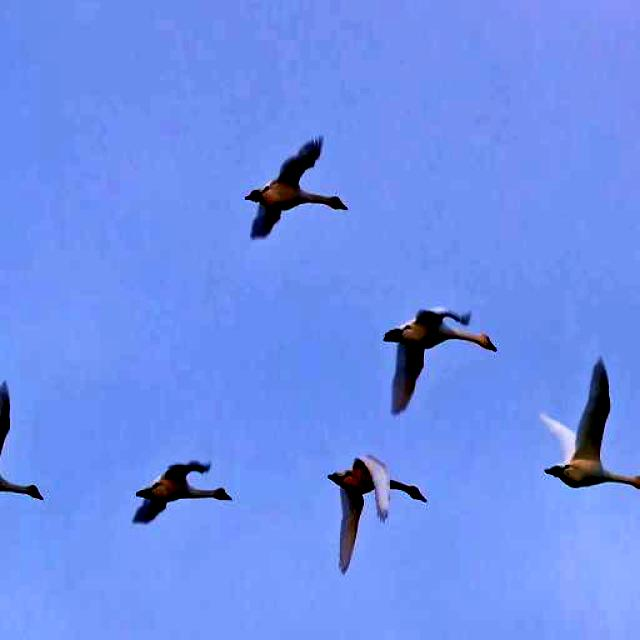airplane: (380, 282, 506, 414), (529, 356, 640, 504), (234, 128, 354, 246), (324, 449, 429, 574), (124, 451, 238, 540), (0, 380, 59, 511)
